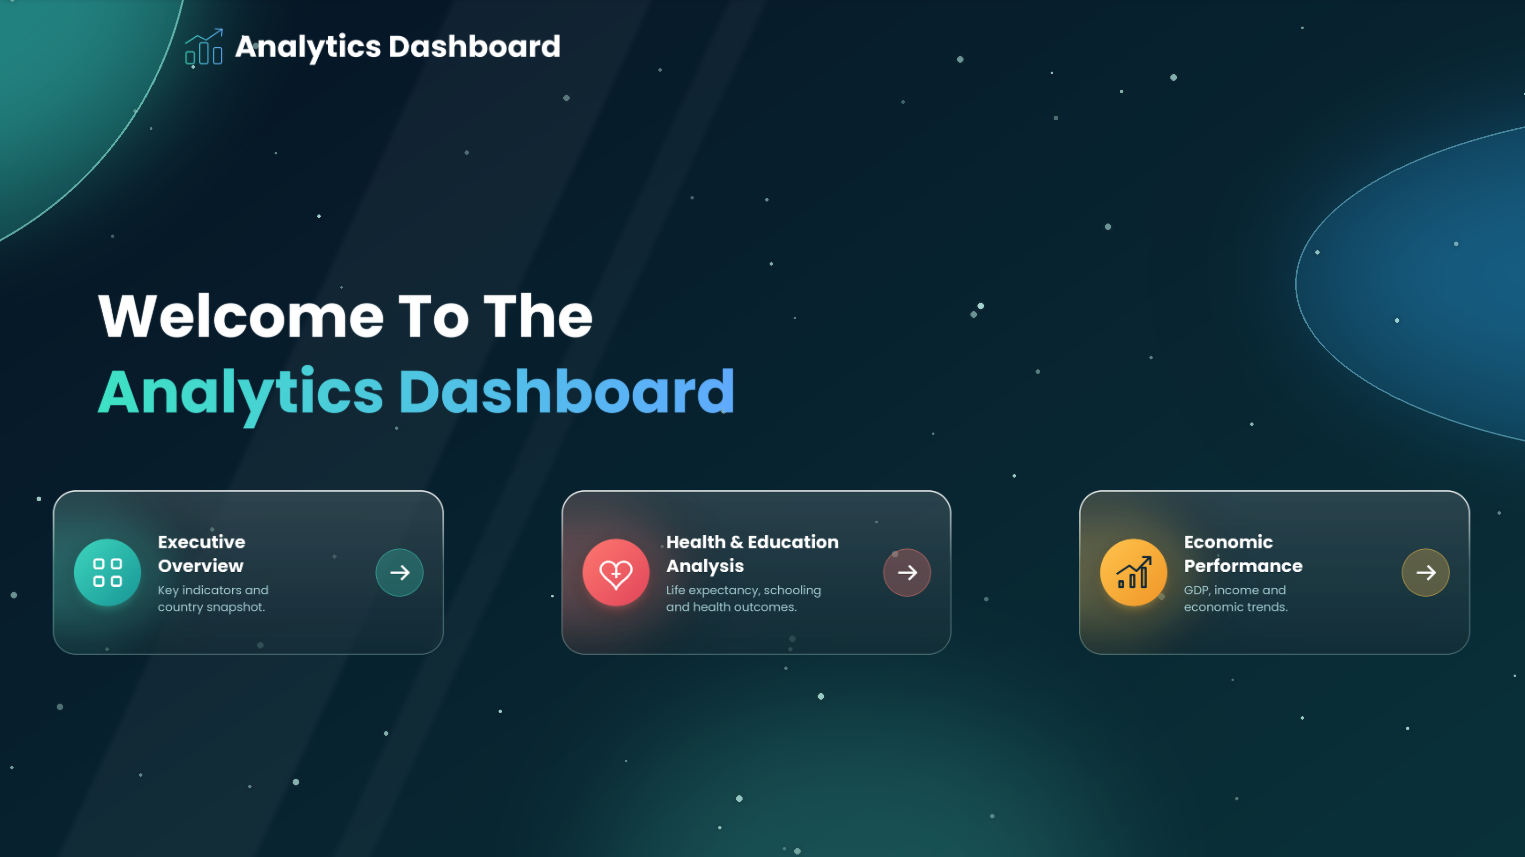

The dashboard page shown, as its layout file describes it:
{"tool":"powerbi","page":{"name":"Home","canvas":[1920,1080],"ordinal":0},"visuals":[{"type":"image","box":[0,0,1920.4,1079.7],"z":0},{"type":"image","box":[109.9,307,835.5,273.8],"z":1000},{"type":"image","box":[235.5,8.7,472.7,102.9],"z":2000},{"type":"image","box":[1353.3,604.9,488,223],"z":3000},{"type":"image","box":[73.1,604.9,488.4,223.3],"z":4000},{"type":"image","box":[708,604.9,486.6,223.3],"z":5000}]}

Visuals, with their boxes in screenshot pixels (x1, y1, x2, y2), scaled from the page's 1920x1080 canvas onto the 1525x857 screenshot:
image: box(0, 0, 1524, 856)
image: box(87, 244, 751, 461)
image: box(187, 7, 563, 89)
image: box(1075, 480, 1462, 657)
image: box(58, 480, 446, 657)
image: box(562, 480, 949, 657)
